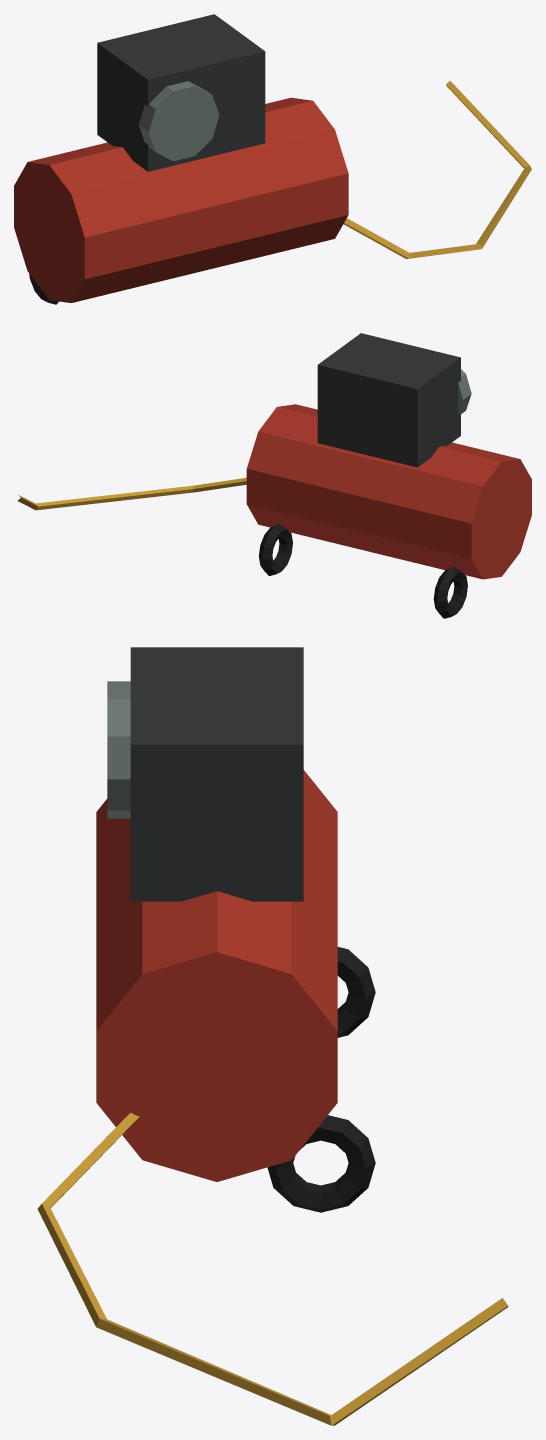
Rendered from may_nen.glb.
The picture shows the model from 3 angles, top to bottom: view 1: azimuth 30°, elevation 25°; view 2: azimuth 150°, elevation 25°; view 3: azimuth 270°, elevation 25°; orthographic projection. The views are drawn at different scales.
Visible parts, largest first — view 1: may_nen; view 2: may_nen; view 3: may_nen.
Boxes of the visible parts, x1,y1,x2,y2 form: may_nen: (14,14,531,304); may_nen: (18,333,531,618); may_nen: (37,647,508,1425).
Bounding box in the file's own units: 1.76 × 0.825 × 0.8162.
